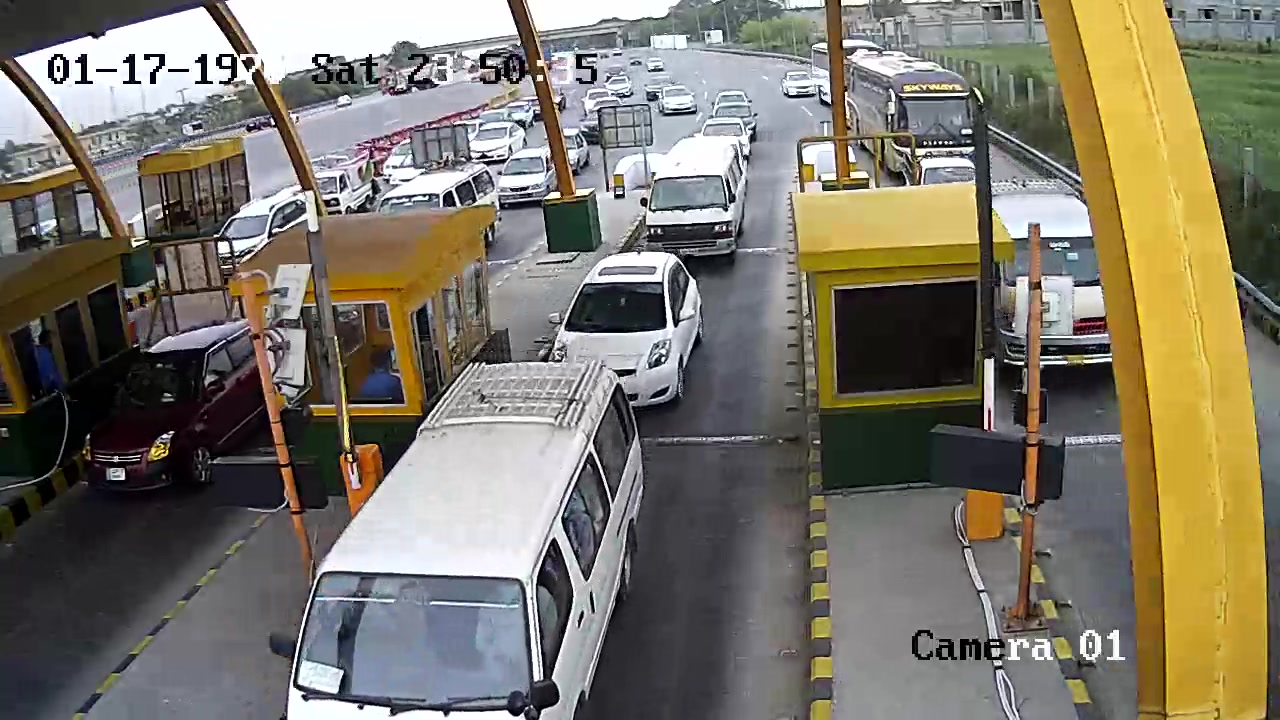F3: (278, 362, 704, 716)
